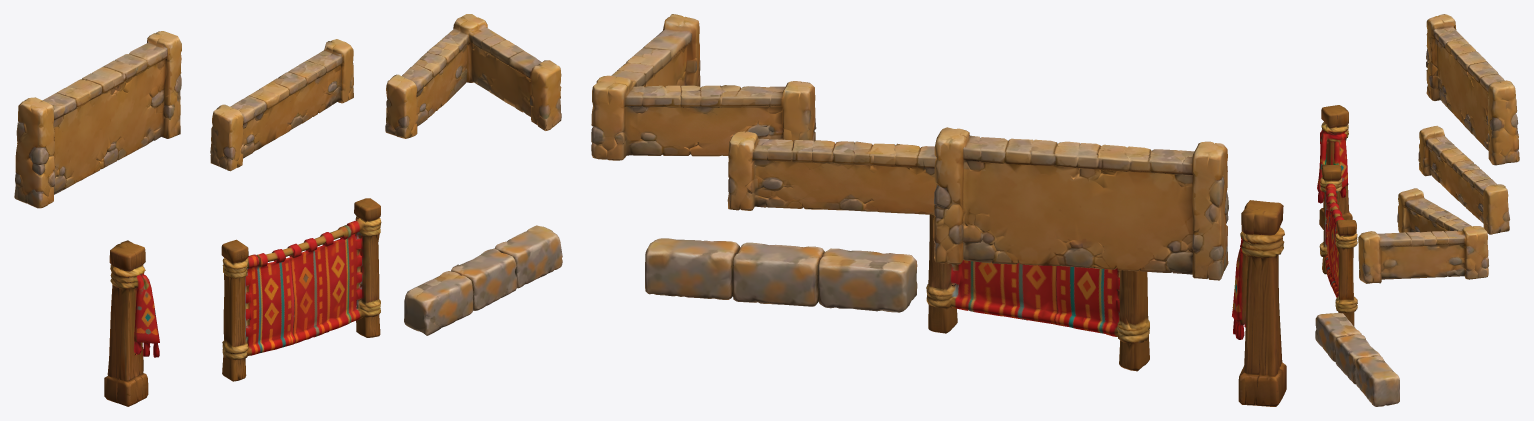
The model's file is tripo_convert_7816eded-38a8-4dc0-863d-2c93058ca768.fbx.
3 renders of one model, left to right at view 1: azimuth 30°, elevation 25°; view 2: azimuth 150°, elevation 25°; view 3: azimuth 270°, elevation 25°, orthographic. The views are drawn at different scales.
Parts seen in each view (by area): view 1: tripo_node_7816eded; view 2: tripo_node_7816eded; view 3: tripo_node_7816eded.
Part boxes in pixels (<box>): tripo_node_7816eded: <box>14,14,562,406</box>; tripo_node_7816eded: <box>591,14,1286,406</box>; tripo_node_7816eded: <box>1315,14,1519,406</box>.
Bounding box in the file's own units: 0.9803 × 0.4789 × 0.4349.
Materials: 1 (1 with a texture image).
